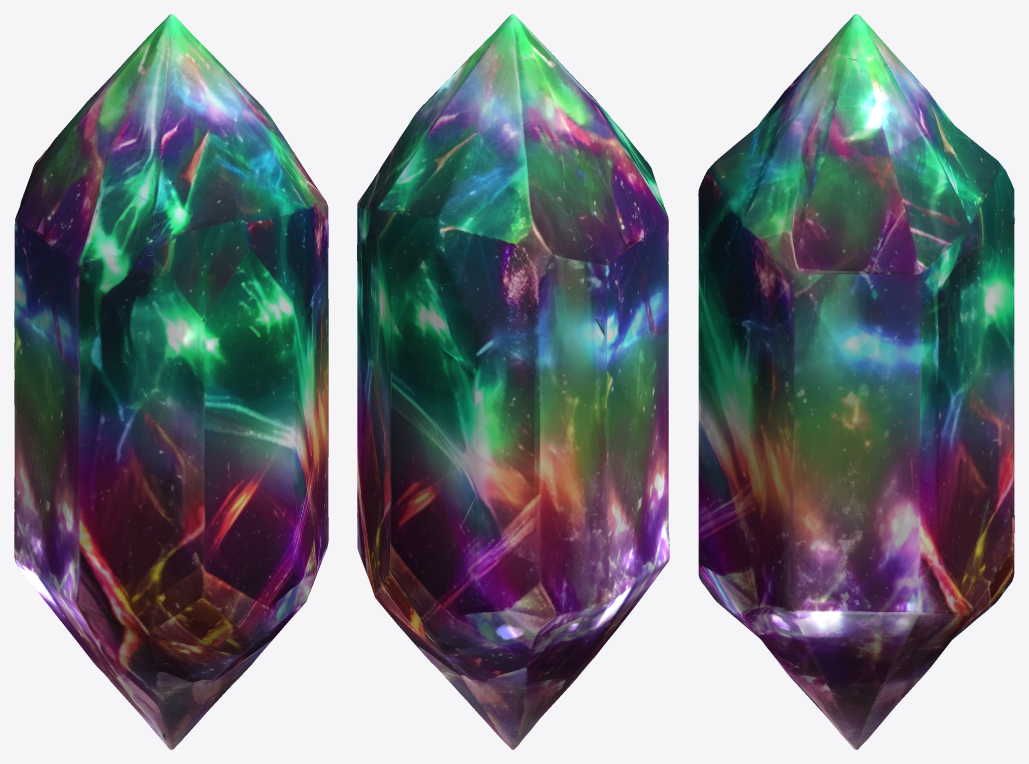
File: Meshy_AI_Ein_riesiger_schweben_0523220202_texture.fbx
3 views of the same model, side by side, from view 1: azimuth 30°, elevation 25°; view 2: azimuth 150°, elevation 25°; view 3: azimuth 270°, elevation 25° (orthographic).
Visible parts, largest first — view 1: Mesh1.0; view 2: Mesh1.0; view 3: Mesh1.0.
Boxes of the visible parts, bbox=[...] form: Mesh1.0: bbox=[14, 14, 328, 749]; Mesh1.0: bbox=[357, 14, 669, 749]; Mesh1.0: bbox=[698, 14, 1014, 749].
Bounding box in the file's own units: 68.72 × 192 × 74.66.
1 material, 1 textured.
